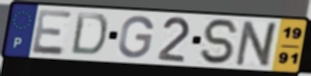2: (156, 16, 191, 64)
D: (69, 11, 110, 57)
E: (30, 8, 75, 57)
G: (116, 14, 156, 60)
N: (232, 20, 282, 69)
S: (200, 17, 242, 66)
